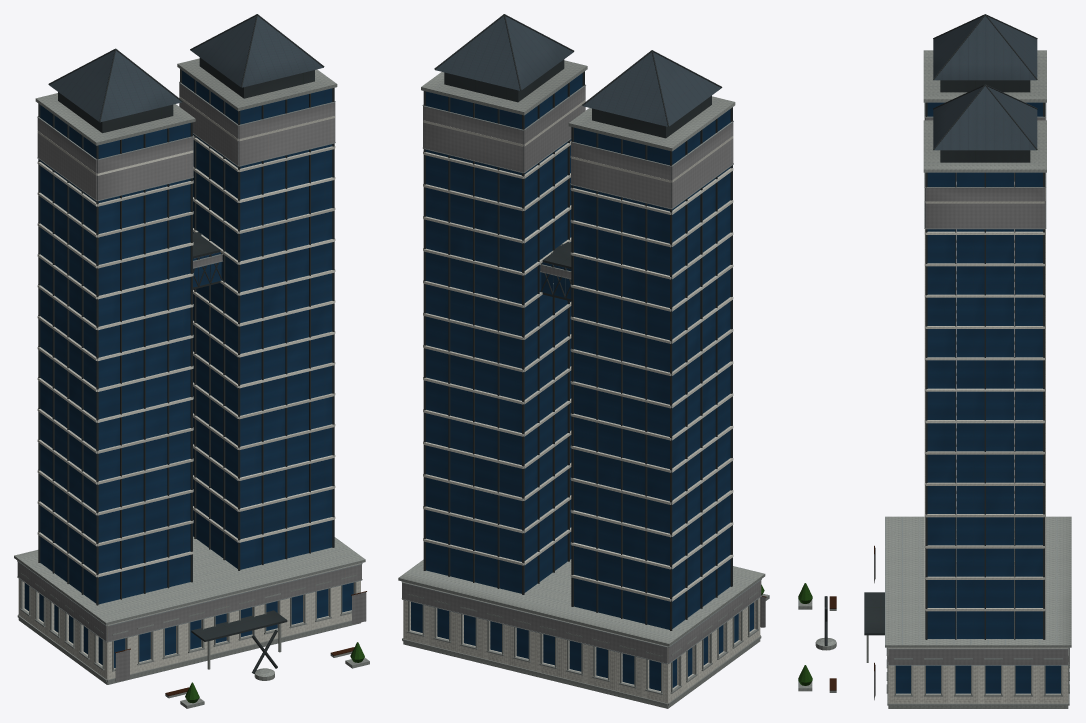
Rendered from international_exchange.glb.
3 renders of one model, left to right at view 1: azimuth 30°, elevation 25°; view 2: azimuth 150°, elevation 25°; view 3: azimuth 270°, elevation 25°, orthographic. The views are drawn at different scales.
Parts seen in each view (by area): view 1: LOD0.001, LOD0.002, LOD0; view 2: LOD0.001, LOD0.002, LOD0; view 3: LOD0.002, LOD0, LOD0.001.
Boxes of the visible parts, bbox=[...] form: LOD0.001: bbox=[35, 48, 195, 605]; LOD0.002: bbox=[18, 14, 369, 708]; LOD0: bbox=[14, 536, 365, 684]; LOD0.001: bbox=[568, 50, 735, 630]; LOD0.002: bbox=[421, 14, 769, 691]; LOD0: bbox=[398, 559, 765, 708]; LOD0.002: bbox=[798, 84, 1046, 700]; LOD0: bbox=[864, 516, 1071, 708]; LOD0.001: bbox=[923, 14, 1046, 540].
Size of what is drawn, in the model's own units: 4.4 by 9.52 by 3.95.
2 materials, 2 textured.
